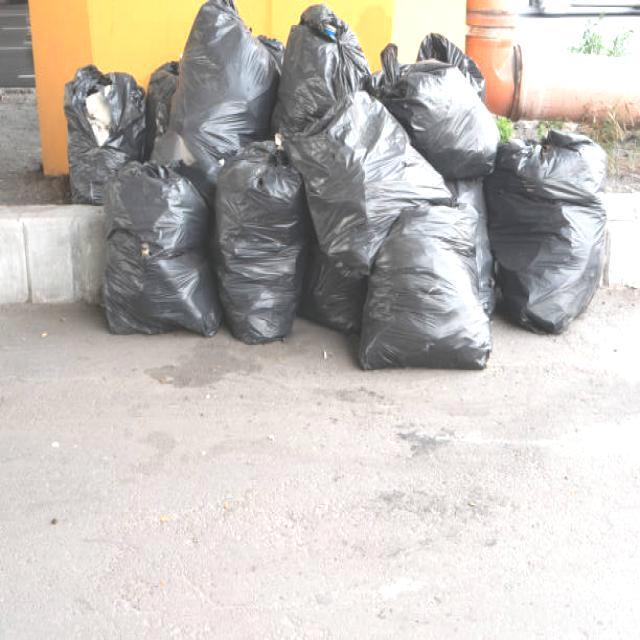high trash: (65, 0, 606, 369)
